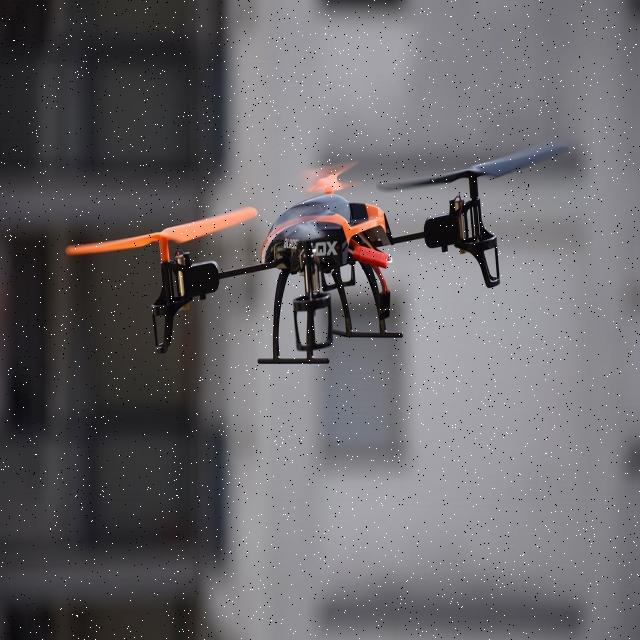UAV: (148, 146, 504, 372)
